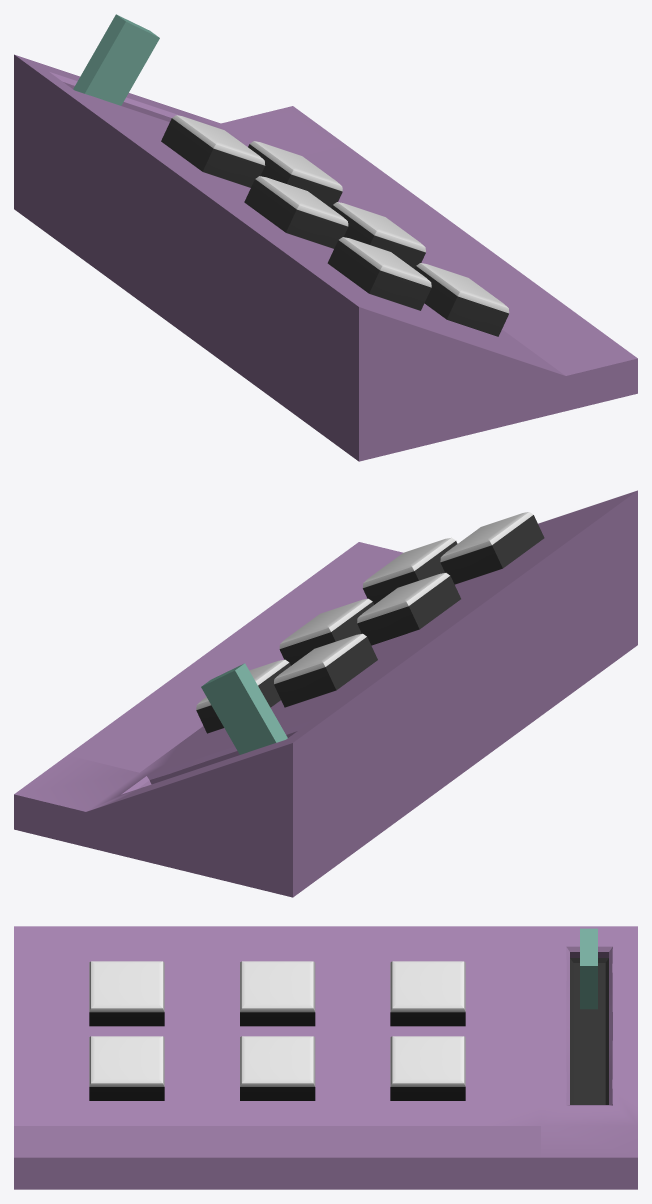
File: tqble1.fbx
3 renders of one model, top to bottom at view 1: azimuth 30°, elevation 25°; view 2: azimuth 150°, elevation 25°; view 3: azimuth 270°, elevation 25°, orthographic. The views are drawn at different scales.
Visible parts, largest first — view 1: pCube1ezezaeza, pCube7, pCube1, pCube2, pCube3, pCube4, pCube5, pCube6; view 2: pCube1ezezaeza, pCube7, pCube3, pCube1, pCube2, pCube4, pCube5, pCube6; view 3: pCube1ezezaeza, pCube1, pCube3, pCube2, pCube4, pCube5, pCube6, pCube7.
Part boxes in pixels (x1,y1,x2,y2): pCube1ezezaeza: [14, 54, 637, 461]; pCube7: [73, 14, 159, 105]; pCube1: [327, 237, 431, 310]; pCube2: [244, 176, 348, 248]; pCube3: [161, 115, 265, 187]; pCube4: [414, 263, 509, 336]; pCube5: [331, 202, 425, 268]; pCube6: [248, 141, 342, 207]; pCube1ezezaeza: [14, 490, 637, 897]; pCube7: [201, 663, 287, 754]; pCube3: [274, 633, 377, 707]; pCube1: [440, 512, 544, 584]; pCube2: [357, 573, 460, 645]; pCube4: [362, 537, 457, 604]; pCube5: [279, 598, 374, 665]; pCube6: [196, 659, 290, 733]; pCube1ezezaeza: [14, 926, 637, 1189]; pCube1: [89, 961, 164, 1026]; pCube3: [390, 961, 465, 1026]; pCube2: [240, 961, 315, 1026]; pCube4: [89, 1036, 164, 1100]; pCube5: [240, 1036, 315, 1100]; pCube6: [390, 1036, 465, 1100]; pCube7: [580, 928, 597, 1009].
Bounding box in the file's own units: 2.45 × 1.61 × 5.24.
